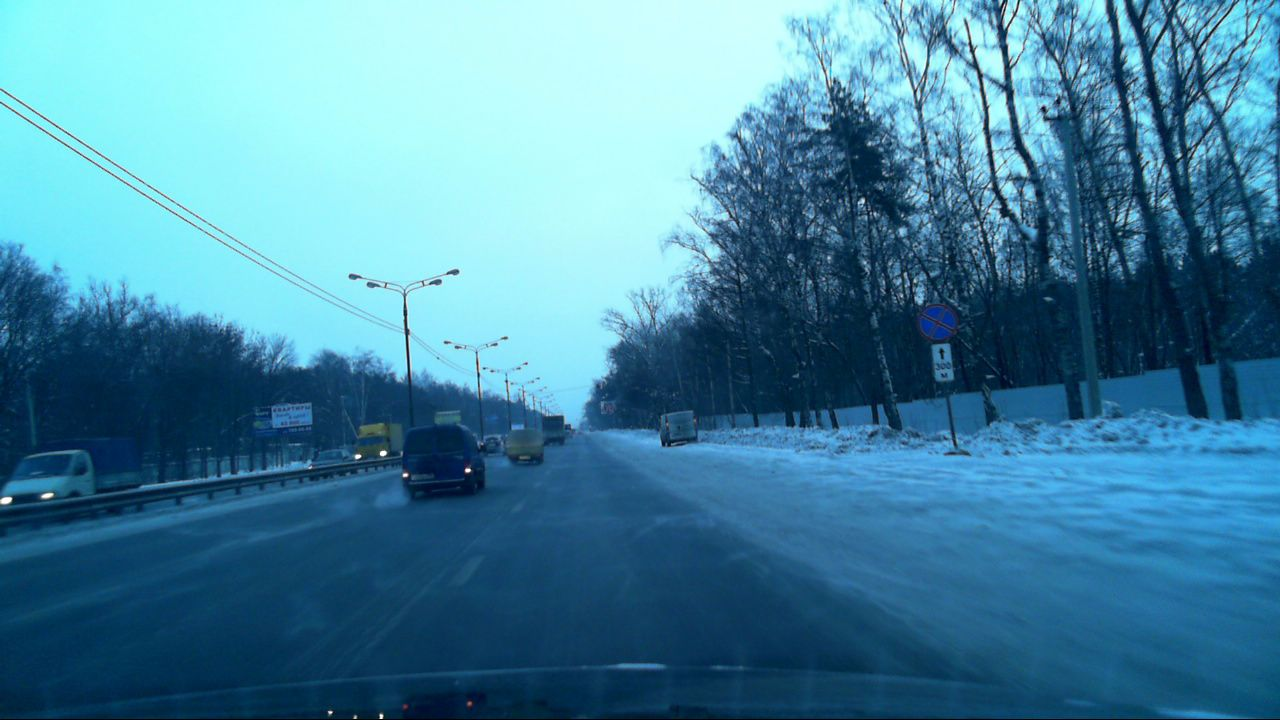No Parking: (917, 301, 956, 342)
